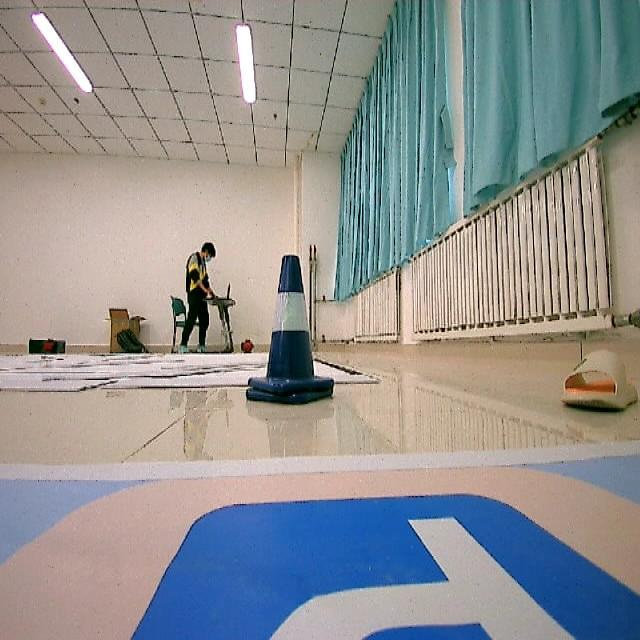obstacle: (241, 252, 338, 414)
